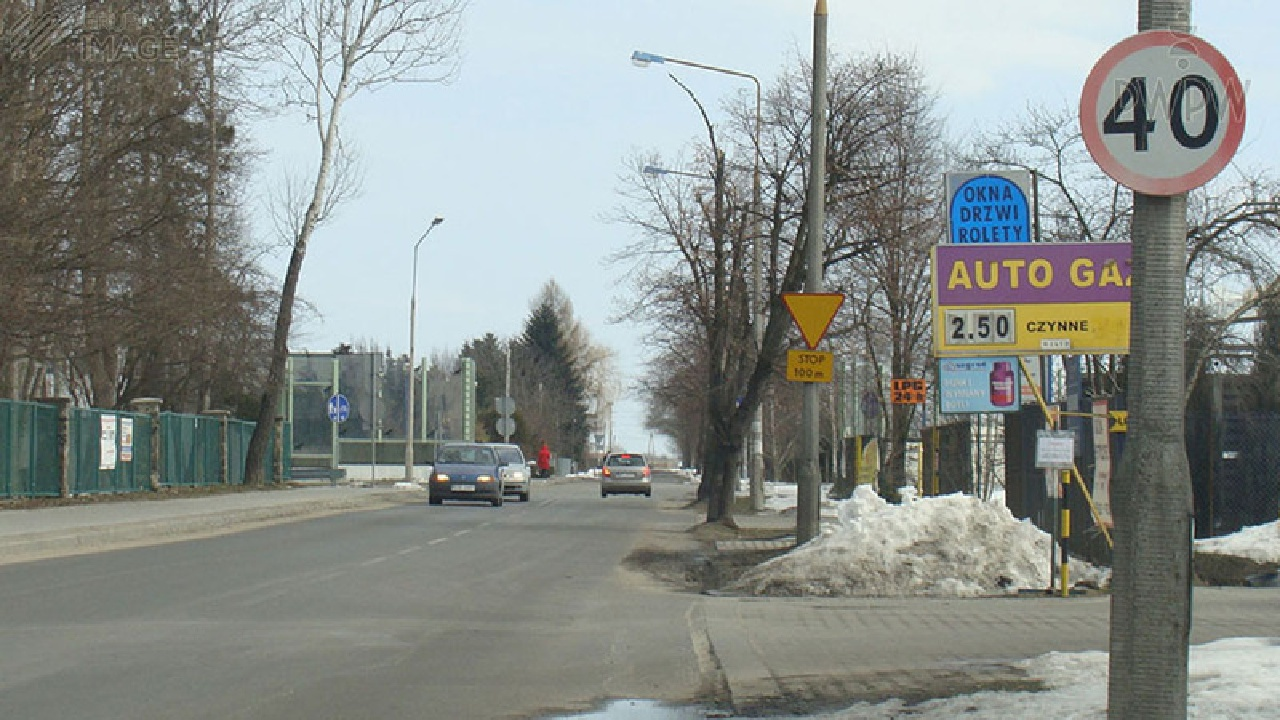A7: (780, 289, 846, 347)
B33_40: (1080, 29, 1250, 194)
